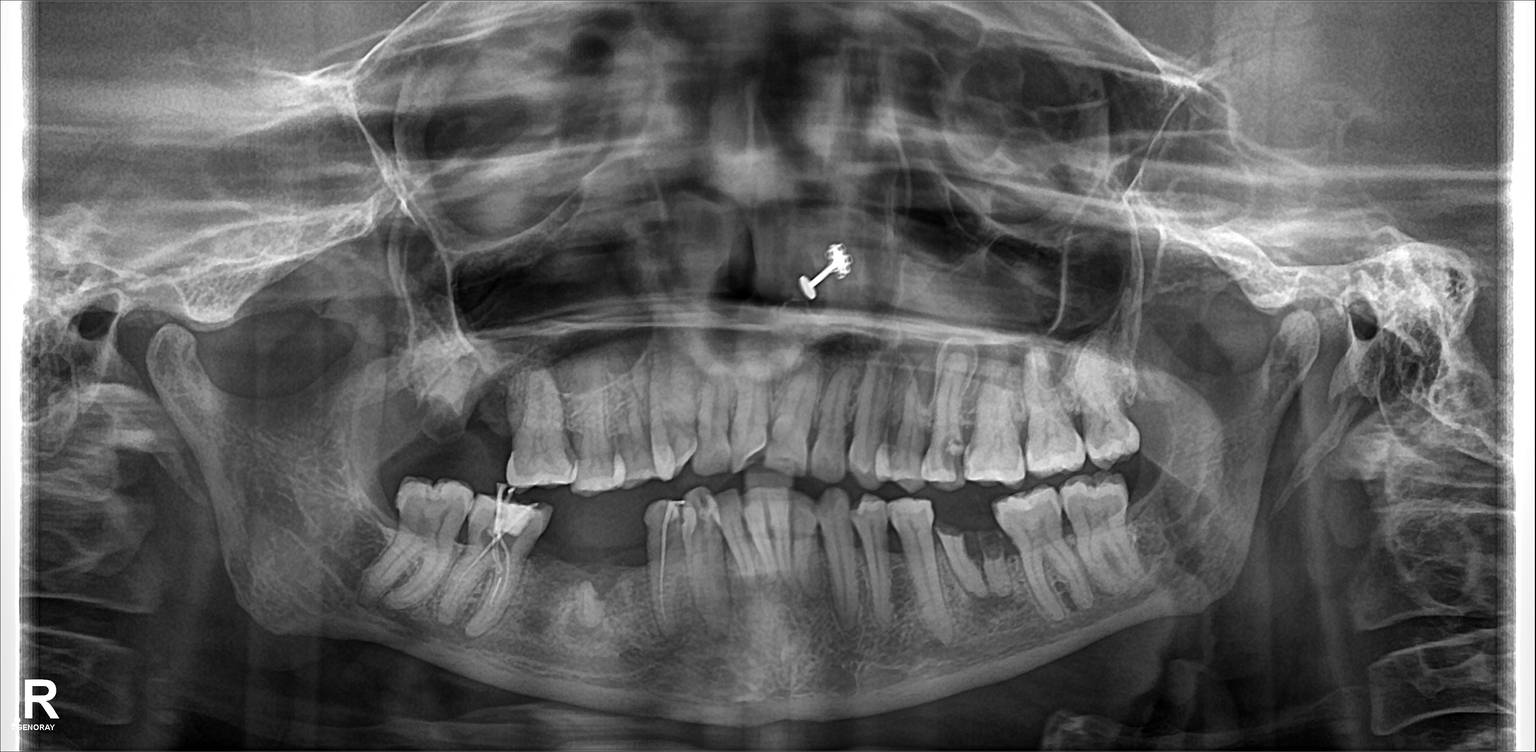Dental Caries: (942, 434, 968, 477)
Endodontically Treated Tooth: (469, 497, 527, 633), (648, 503, 688, 633)
Missing Tooth: (596, 508, 641, 637), (544, 512, 587, 631), (339, 465, 395, 550), (372, 374, 417, 459), (471, 376, 511, 468)
Retained Root: (421, 357, 469, 466), (929, 508, 971, 603), (974, 501, 1007, 590)
